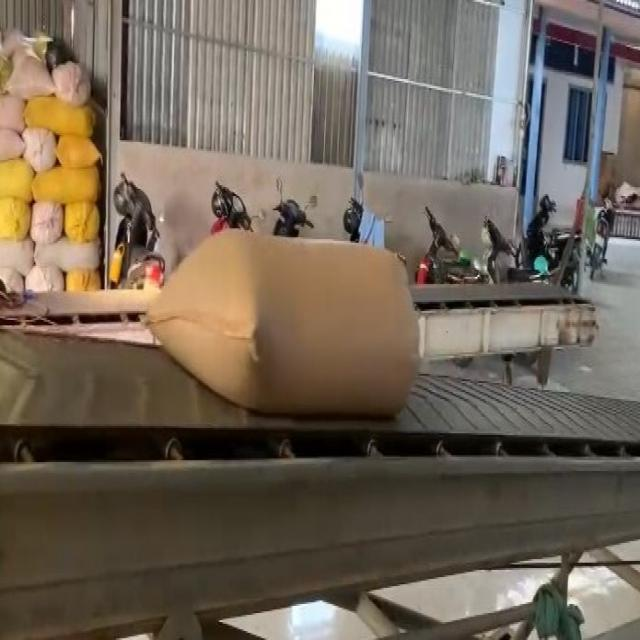gunny_bag: (148, 230, 419, 416)
